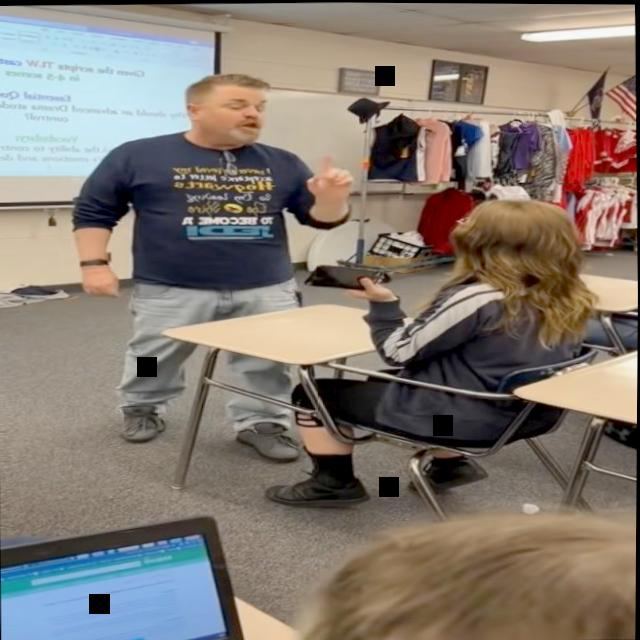NO-Mask: (185, 79, 275, 149)
